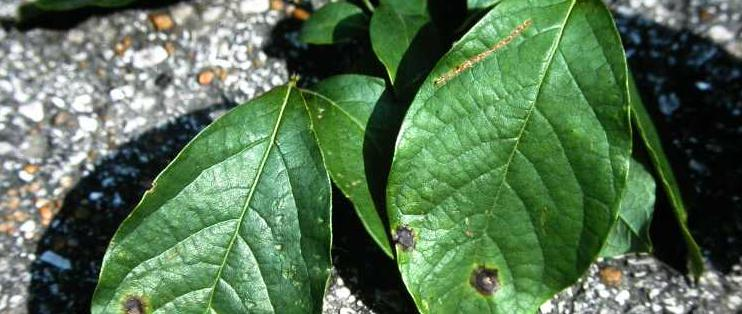Tomato leaf bacterial spot: (368, 0, 637, 314), (59, 79, 341, 314)
